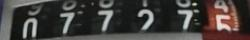digits: (209, 0, 234, 38), (135, 8, 156, 38), (97, 10, 115, 38), (176, 9, 193, 36), (21, 17, 38, 38), (59, 12, 75, 32)
